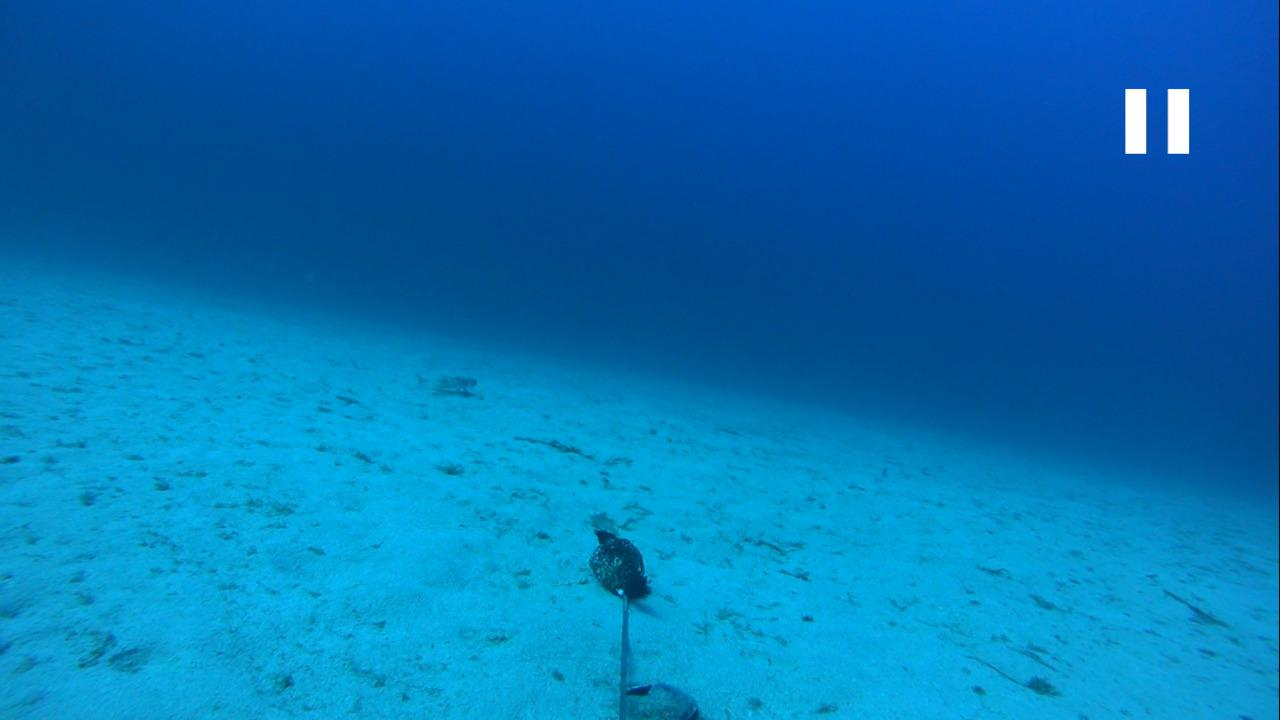dactylopterus: (403, 368, 481, 402)
